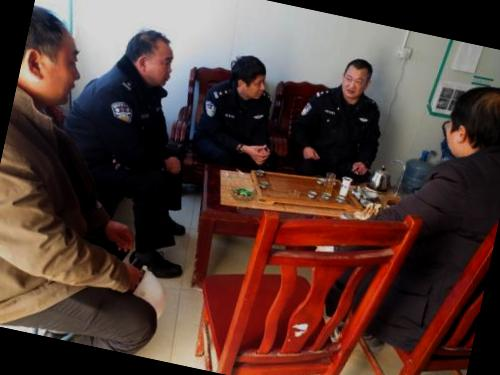no_helmet: (12, 0, 94, 119), (433, 67, 500, 172), (116, 24, 179, 94), (224, 49, 274, 106), (331, 53, 379, 109)
